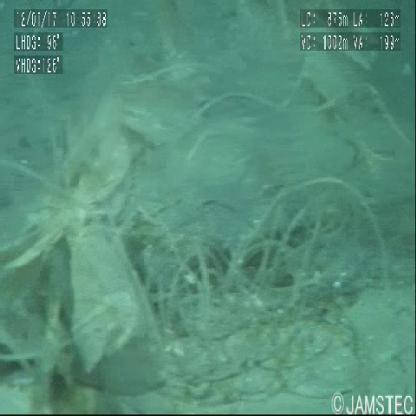Rác: (1, 125, 408, 394)
